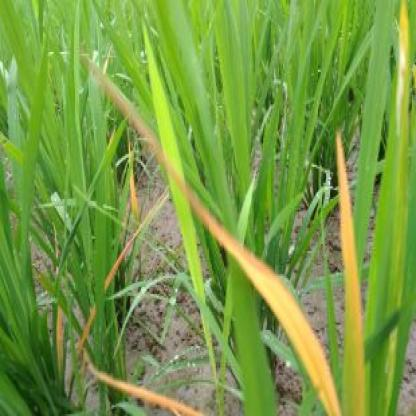Tungro: (332, 127, 373, 412)
